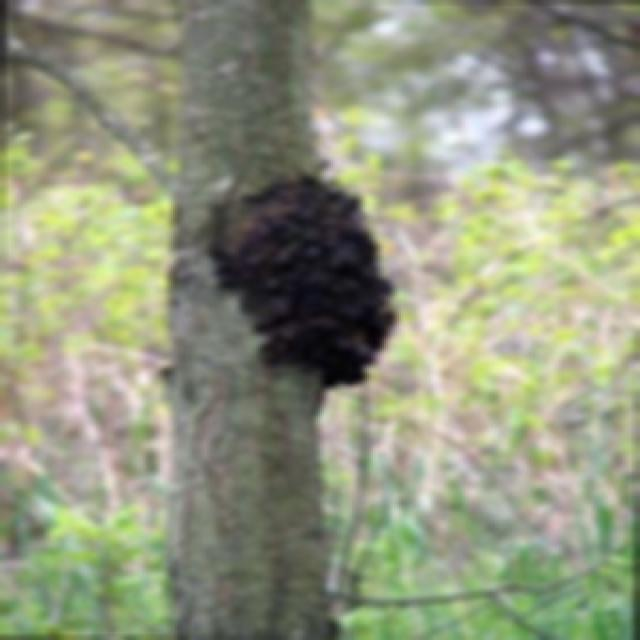Black_knot: (205, 171, 399, 389)
